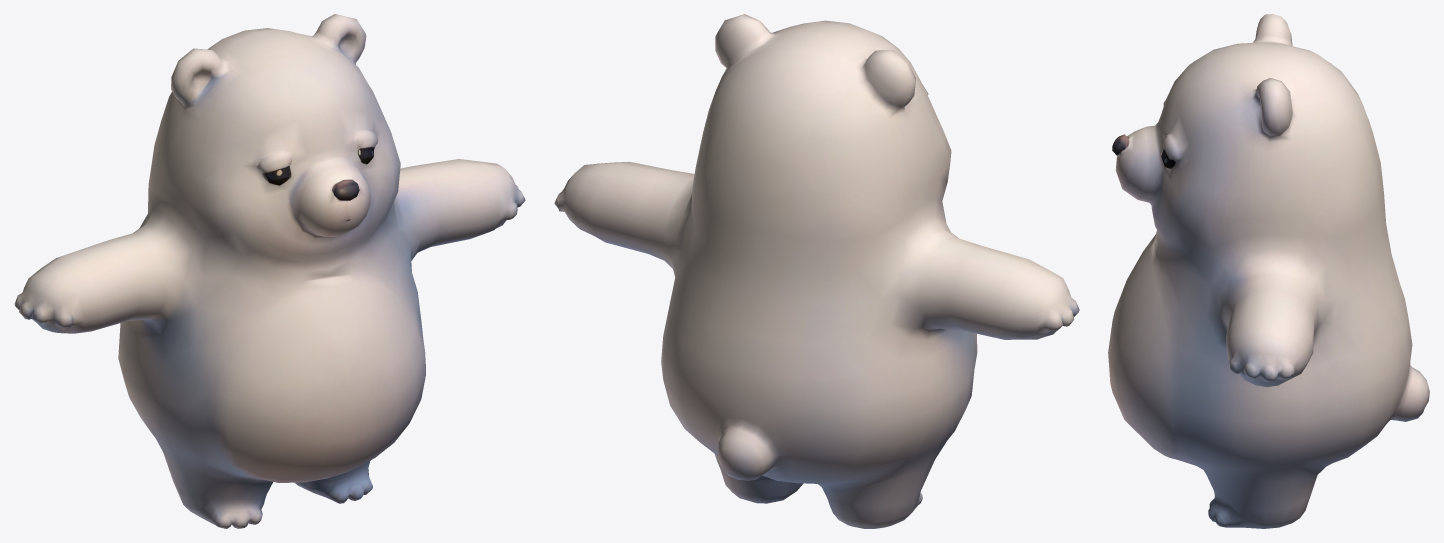
The model's file is bear.glb.
The picture shows the model from 3 angles, left to right: view 1: azimuth 30°, elevation 25°; view 2: azimuth 150°, elevation 25°; view 3: azimuth 270°, elevation 25°; orthographic projection. The views are drawn at different scales.
Visible parts, largest first — view 1: tripo_node_ce9ab3cd-e83c-4d2d-a0d3-ab43b6f9d9cb; view 2: tripo_node_ce9ab3cd-e83c-4d2d-a0d3-ab43b6f9d9cb; view 3: tripo_node_ce9ab3cd-e83c-4d2d-a0d3-ab43b6f9d9cb.
Boxes of the visible parts, x1=… form: tripo_node_ce9ab3cd-e83c-4d2d-a0d3-ab43b6f9d9cb: x1=14, y1=14, x2=525, y2=528; tripo_node_ce9ab3cd-e83c-4d2d-a0d3-ab43b6f9d9cb: x1=554, y1=14, x2=1079, y2=528; tripo_node_ce9ab3cd-e83c-4d2d-a0d3-ab43b6f9d9cb: x1=1108, y1=14, x2=1429, y2=528.
Bounding box in the file's own units: 0.9785 × 0.8636 × 0.5649.
Materials: 1 (1 with a texture image).
